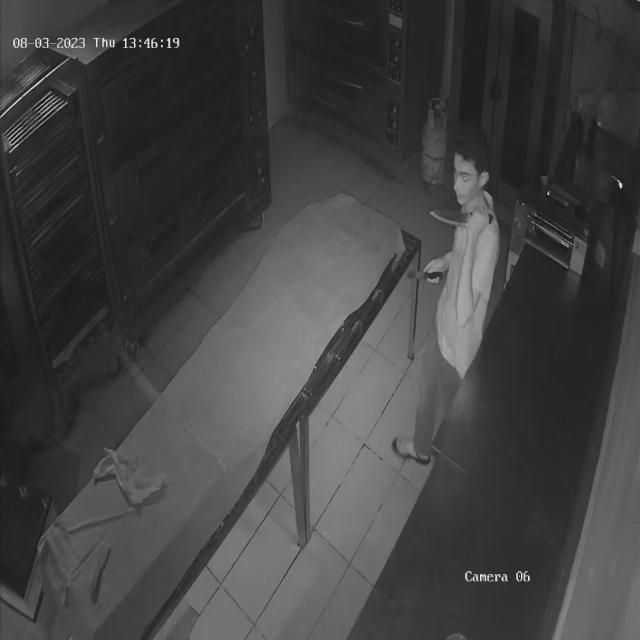Knife: (426, 201, 506, 241)
